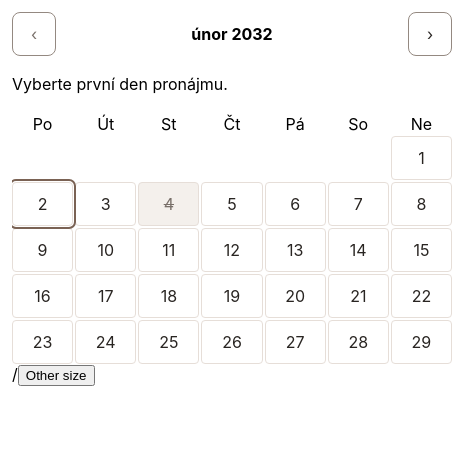
Test case: keyboard arrows focus days; complete range can restart and a same-day rental works
Press ArrowRight in the button "2", box [12,182,73,226]
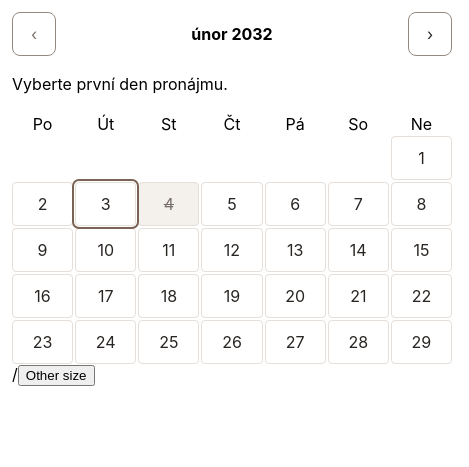
Click the button "3" at {"x": 106, "y": 204}, box [75,182,136,226]
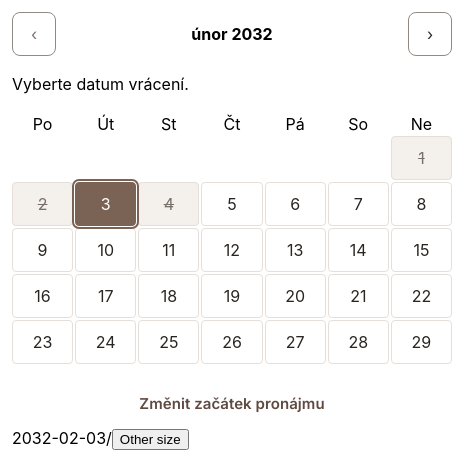
Click the button "3" at {"x": 106, "y": 204}, box [75,182,136,226]
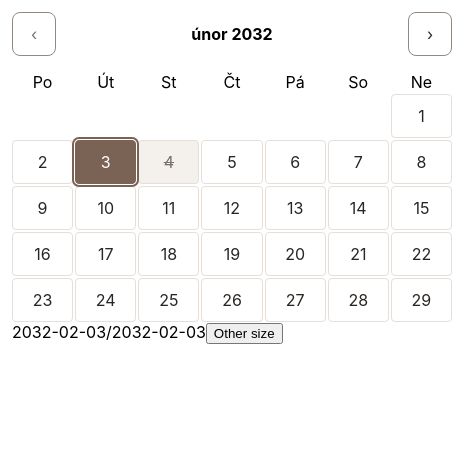
Expected: the text with test id "range" reads "2032-02-03/2032-02-03", [12,322,206,342]
Click the button "8" at {"x": 421, "y": 162}, box [391,140,452,184]
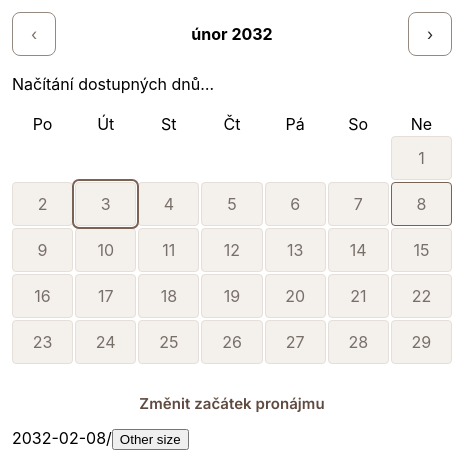
Expected: the text with test id "range" reads "2032-02-08/", [12,428,112,448]
Click the button "Změnit začátek pronájmu" at {"x": 232, "y": 404}, box [12,380,452,428]
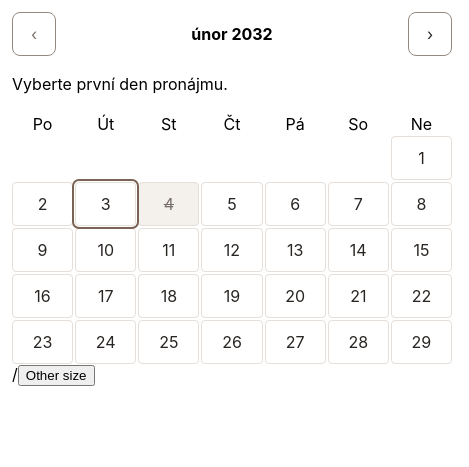
Expected: the text with test id "range" reads "/", [12,364,18,384]
